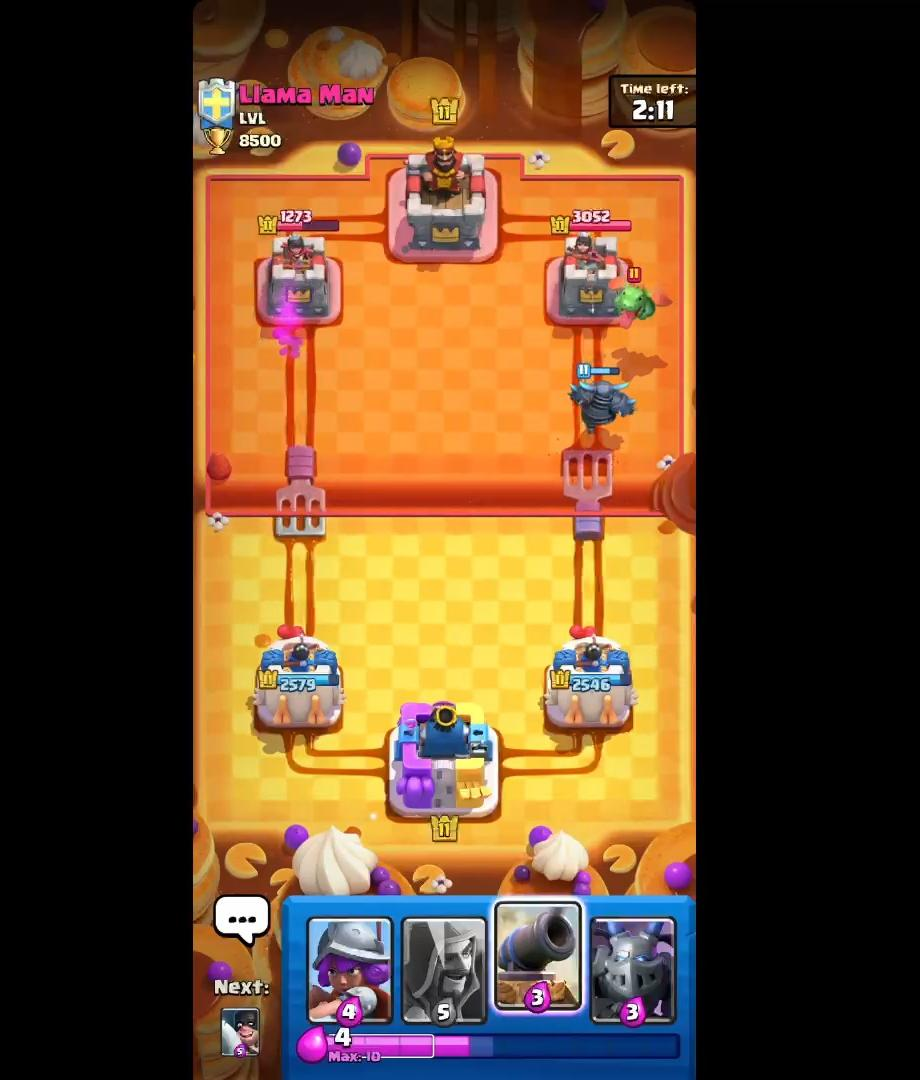Baby Dragon: (606, 267, 677, 335)
